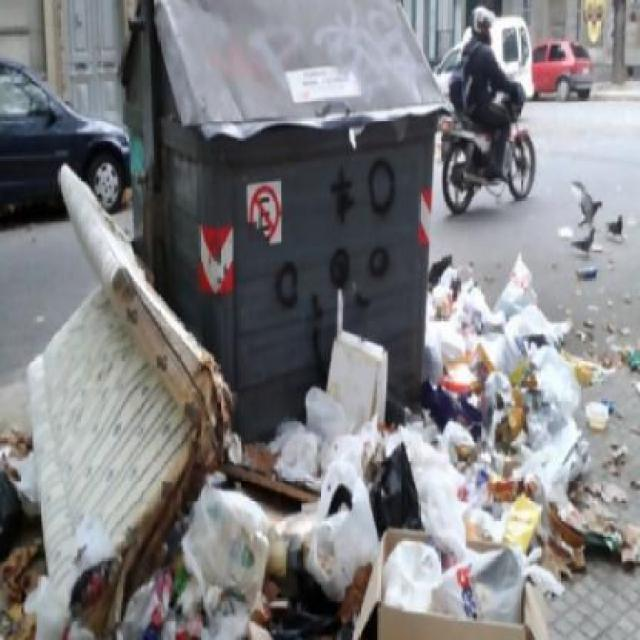garbage: (40, 157, 226, 596), (233, 399, 559, 639), (431, 270, 582, 419), (565, 453, 636, 573), (2, 426, 38, 633), (589, 316, 639, 436)
